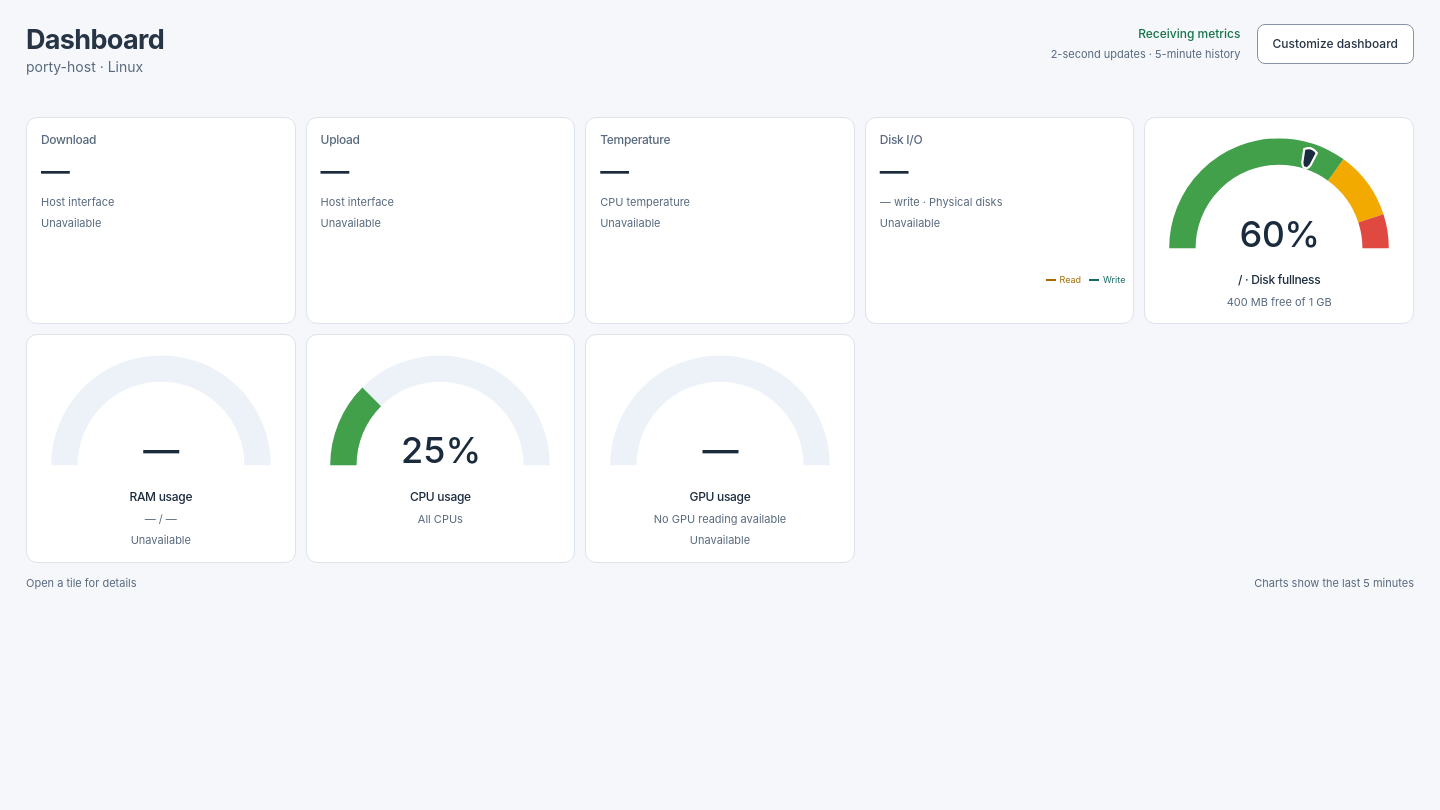
Scenario: shows clear storage totals and keeps technical disk information collapsed
Click the button "Customize dashboard" at (1335, 44), box [1256,24,1414,64]
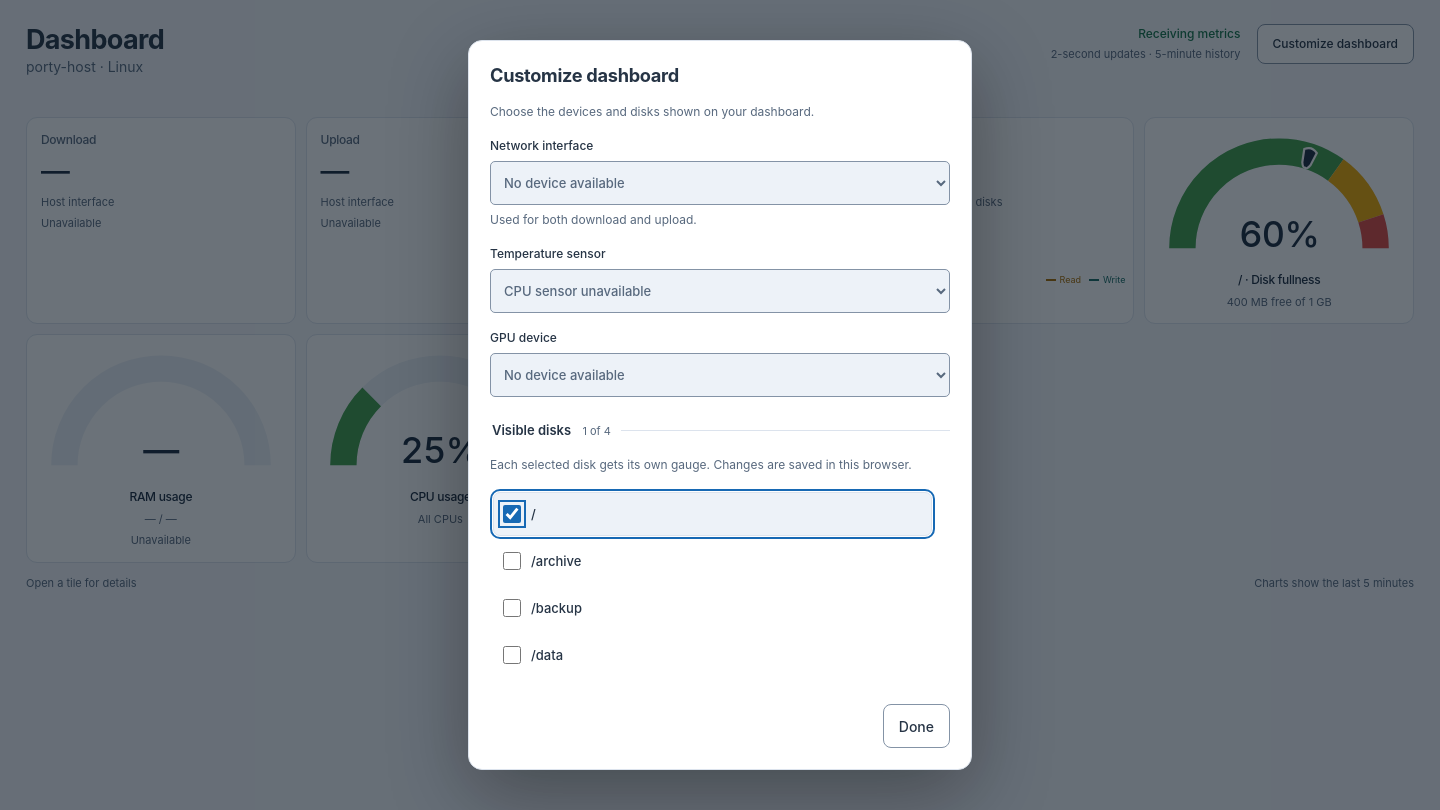
Click the checkbox labelled "/backup" at (512, 608), box [503,599,521,617]
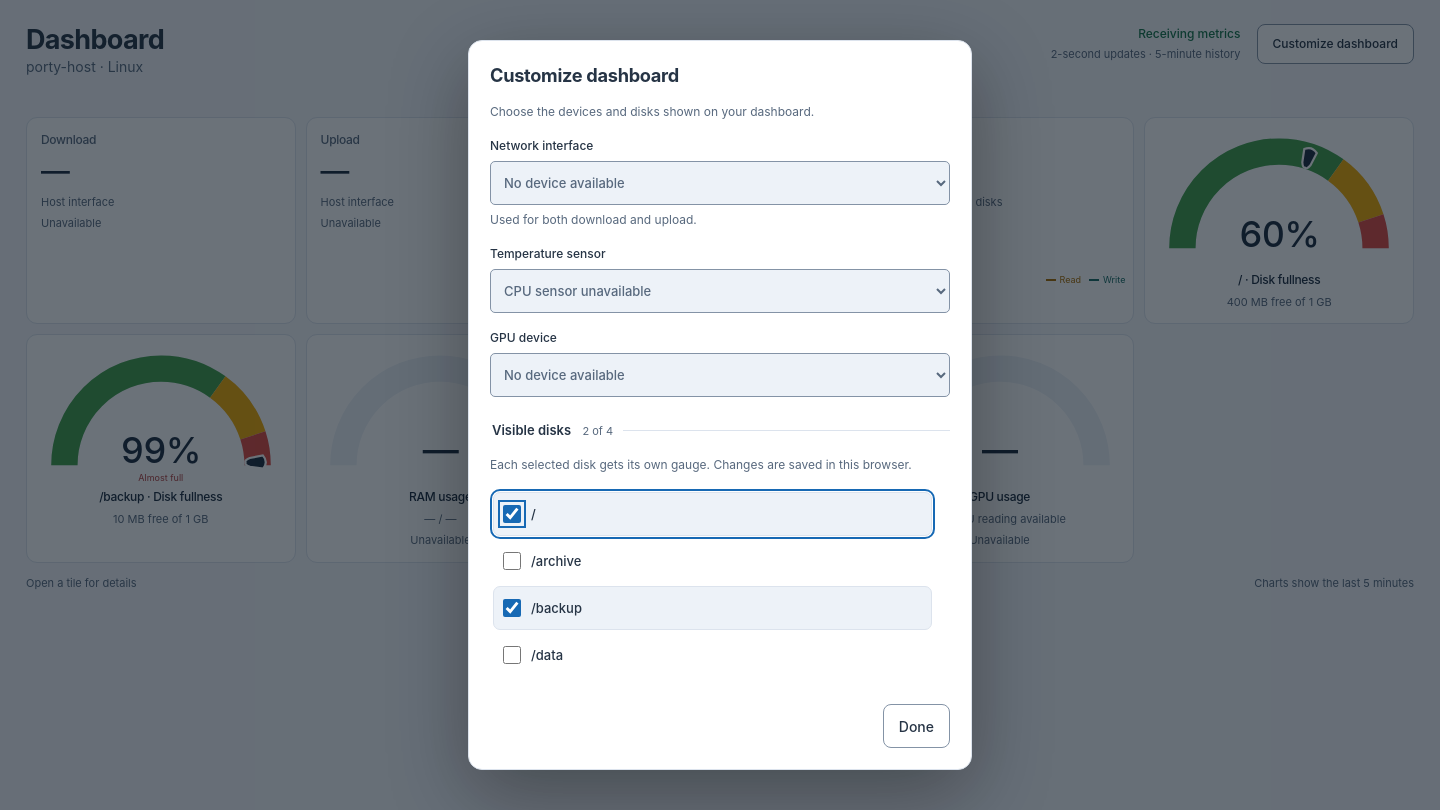
Click the button "Done" at (916, 726), box [883,704,950,748]
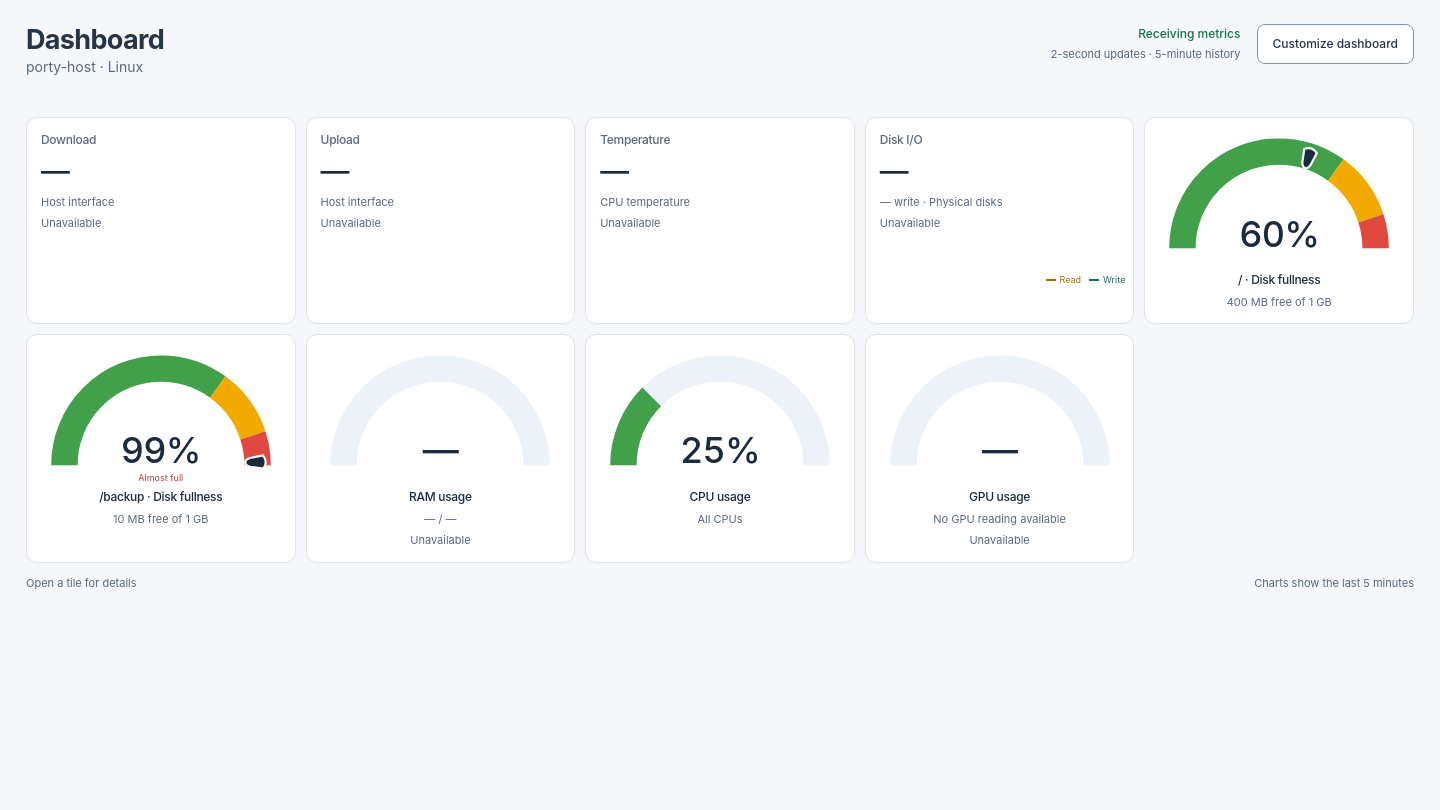
Click the button named "/backup filesystem details" at (161, 449), box [27,335,295,562]
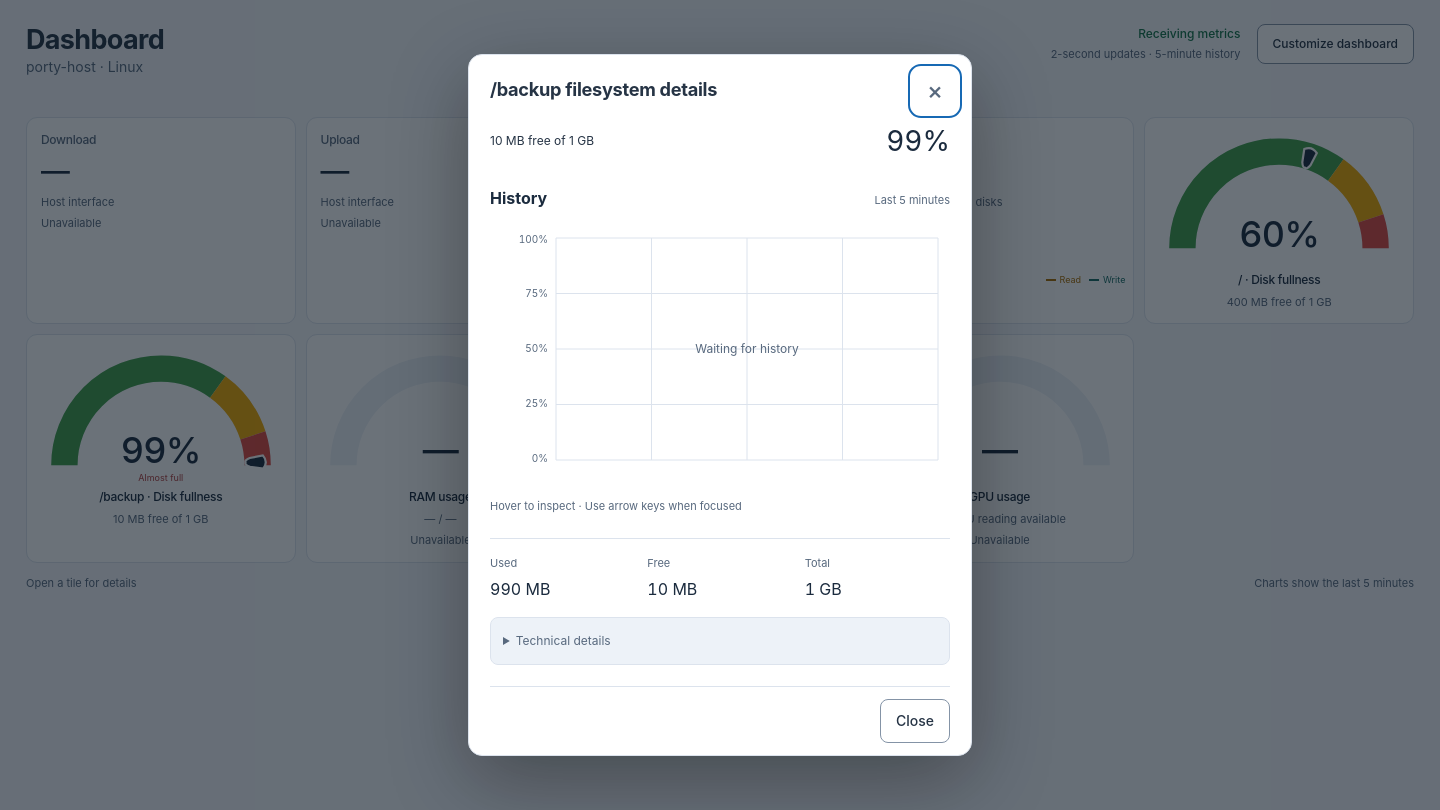
Expected: the text "/data" is not shown
Now the heading "Technical details" is shown, box [516,633,611,648]
